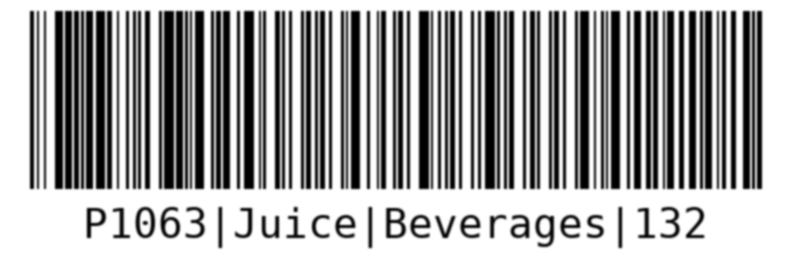milk: (25, 6, 766, 262)
